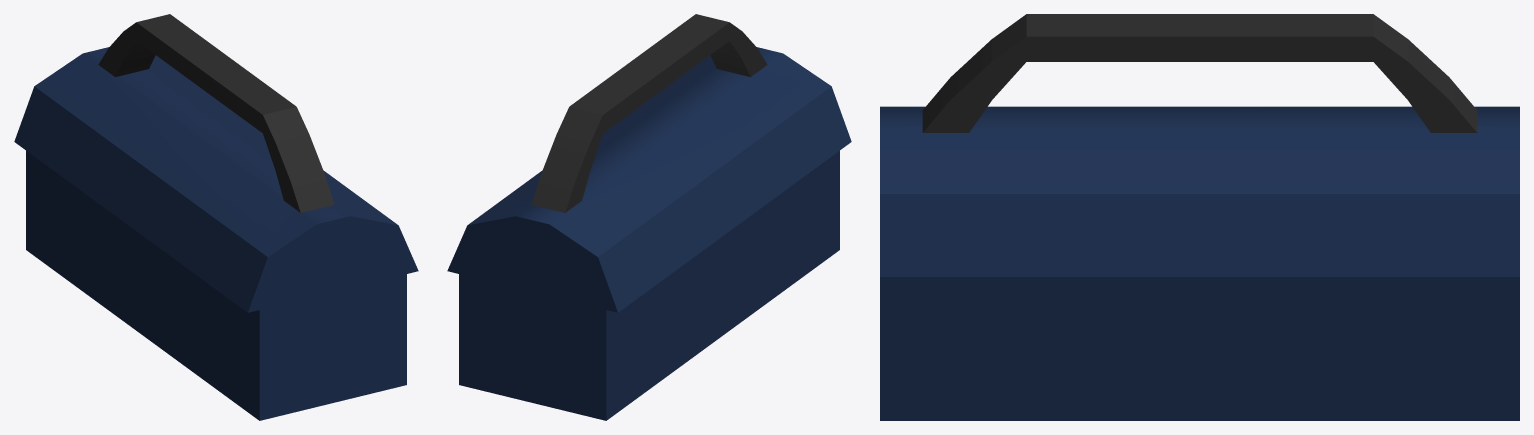
File: Tool_Box_01.fbx
3 views of the same model, side by side, from view 1: azimuth 30°, elevation 25°; view 2: azimuth 150°, elevation 25°; view 3: azimuth 270°, elevation 25° (orthographic). The views are drawn at different scales.
Visible parts, largest first — view 1: pCube1; view 2: pCube1; view 3: pCube1.
Boxes of the visible parts, box(x1,y1,x2,y2) form: pCube1: box(14, 14, 418, 420); pCube1: box(447, 14, 851, 420); pCube1: box(880, 14, 1519, 420).
Size of the model in its own units: 17.4 by 24.62 by 41.2.
